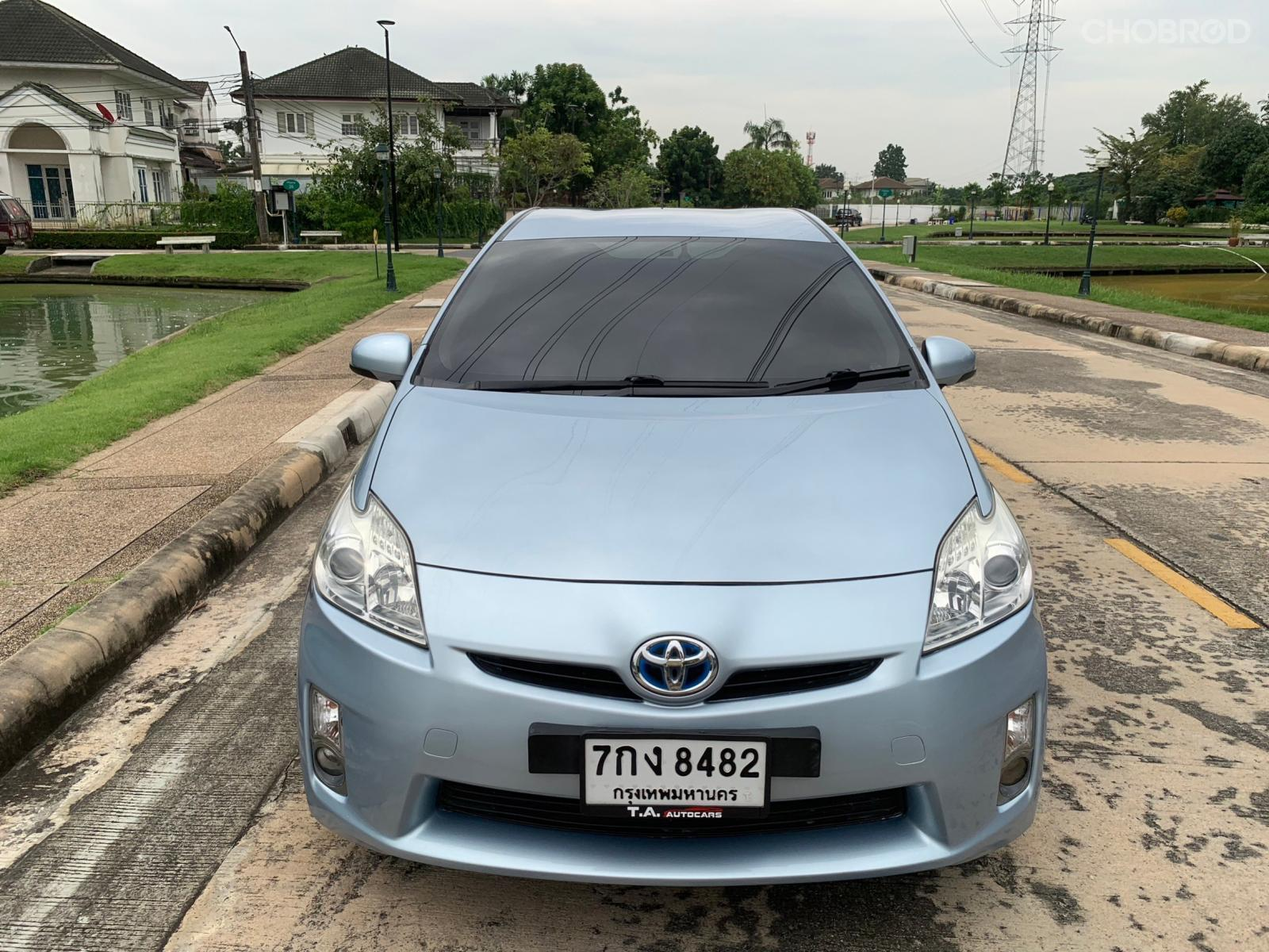license-plate: (582, 727, 771, 821)
